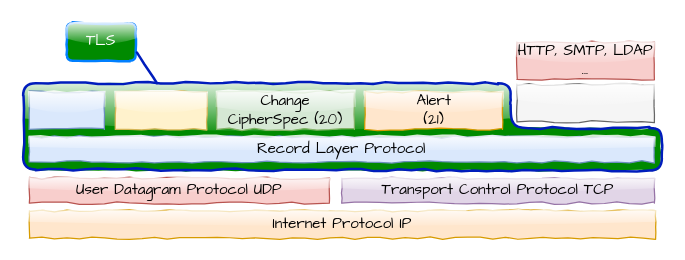
This 685x260 diagram has some shape labels left out. Here are the shapes that lost their labels. From the top down, the centre of each, then its label:
At (x=66, y=110): "Heard- beat (24)".
At (x=160, y=110): "Hand- shake (22)".
At (x=585, y=102): "Application Protocol (23)".
